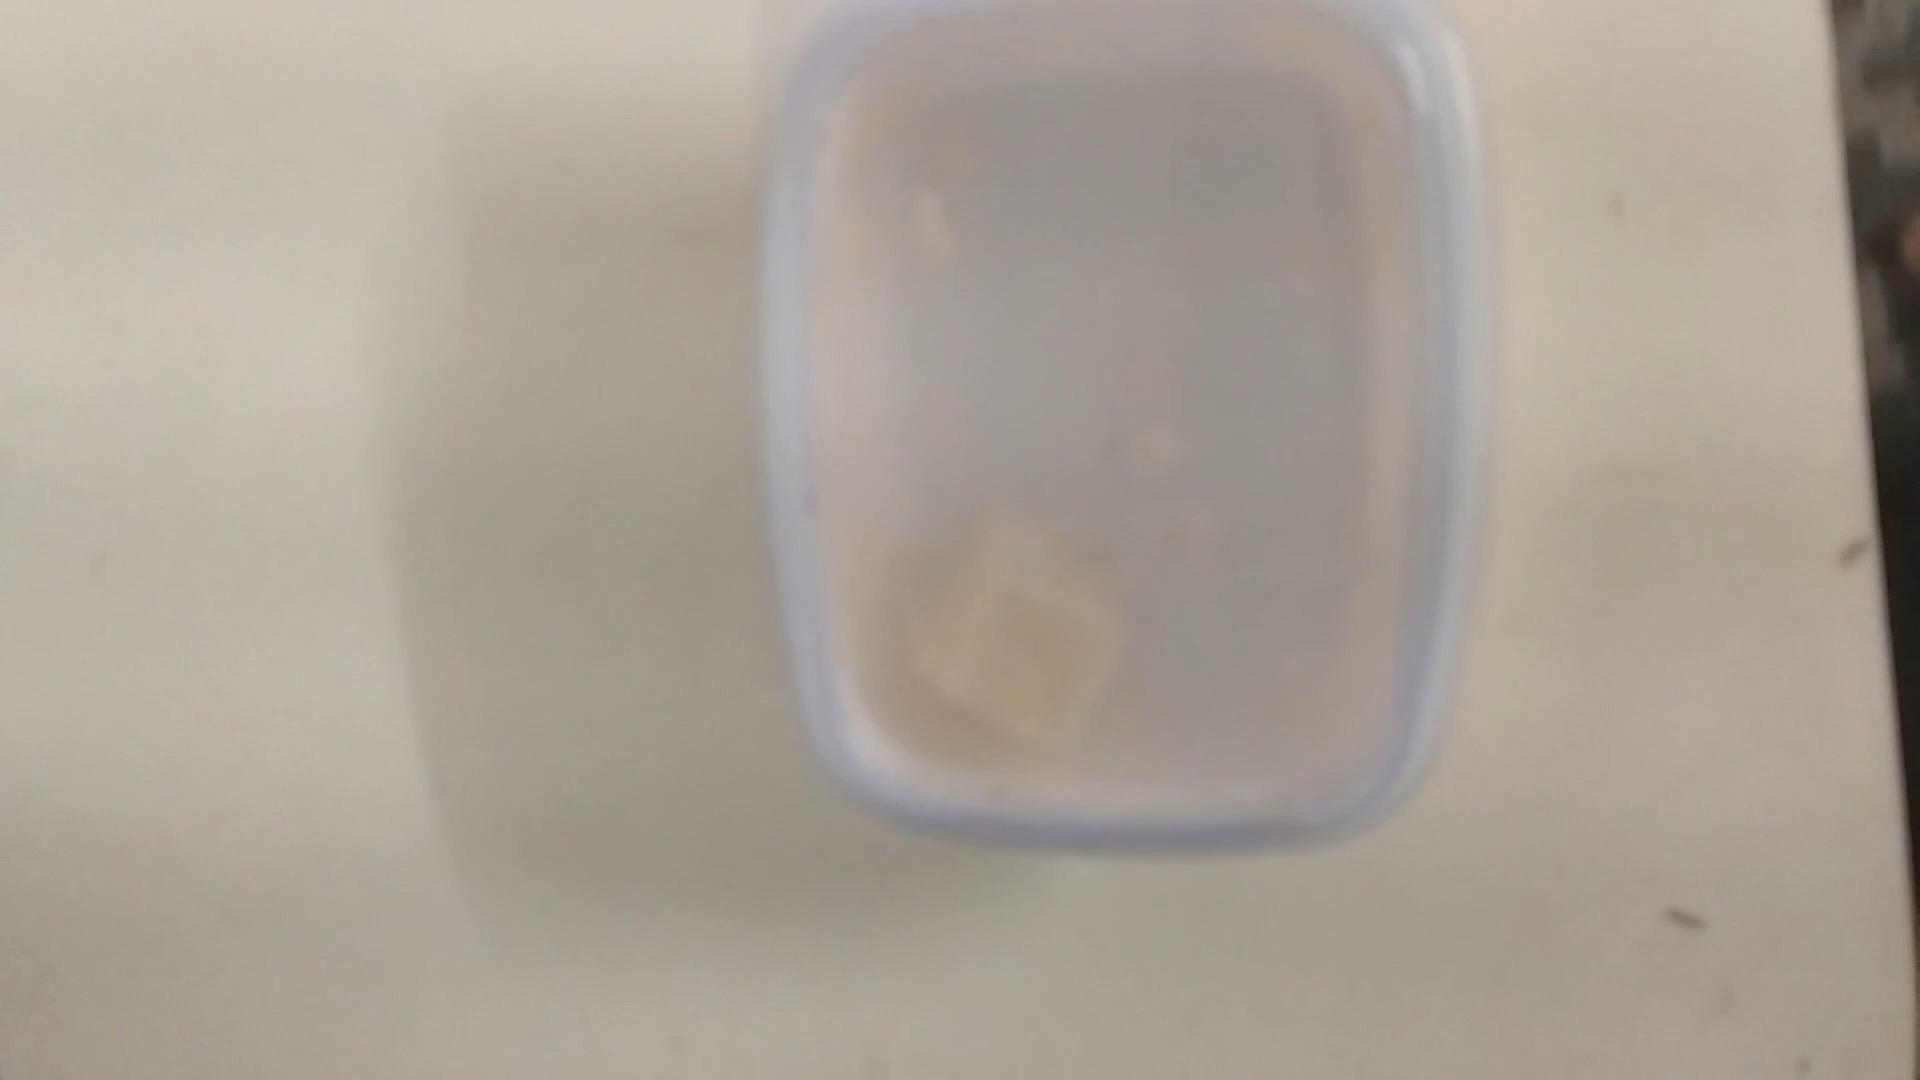butter: (769, 9, 1474, 862)
